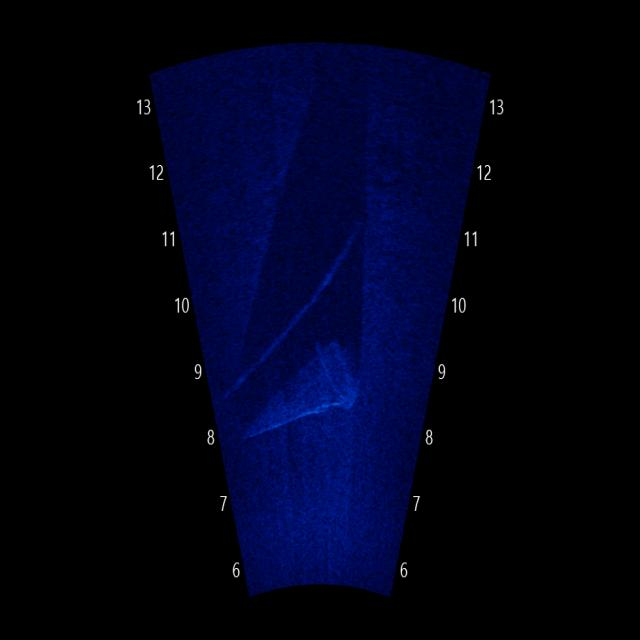triangle: (233, 327, 368, 458)
